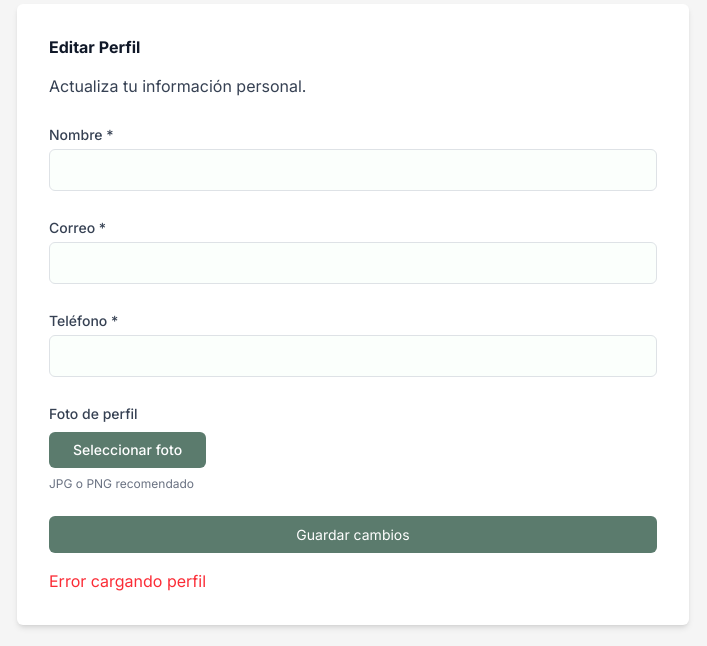
Test case: EditClientProfile › muestra error de validación cuando el nombre está vacío
Click the button "Guardar cambios" at (353,535), box left=49, top=516, right=657, bottom=553
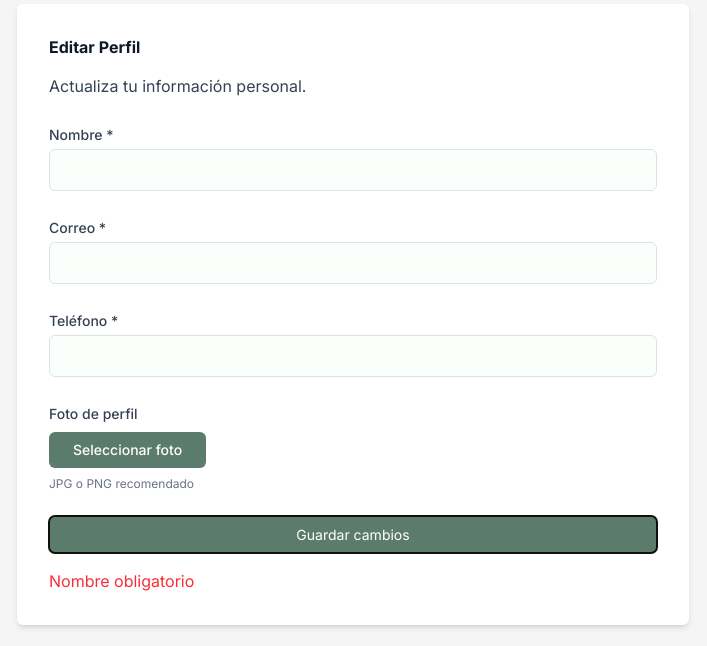
Check: the text "Nombre obligatorio" is shown, box left=49, top=571, right=194, bottom=591
